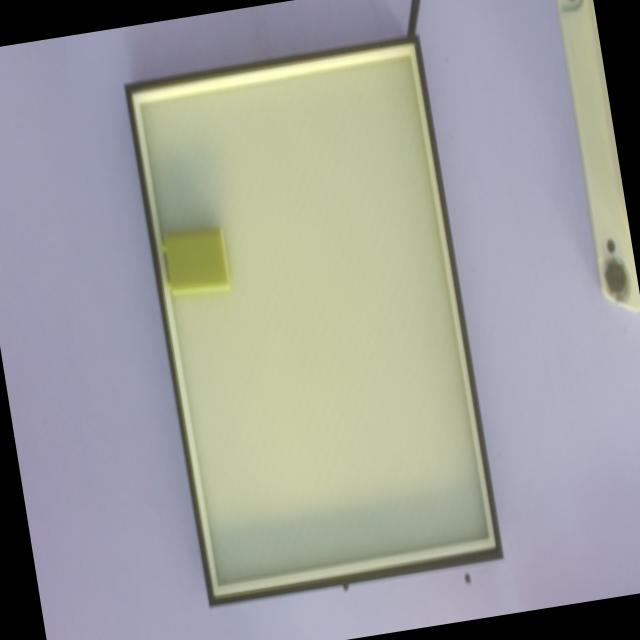bateria: (160, 225, 230, 295)
mesa: (125, 35, 504, 606)
